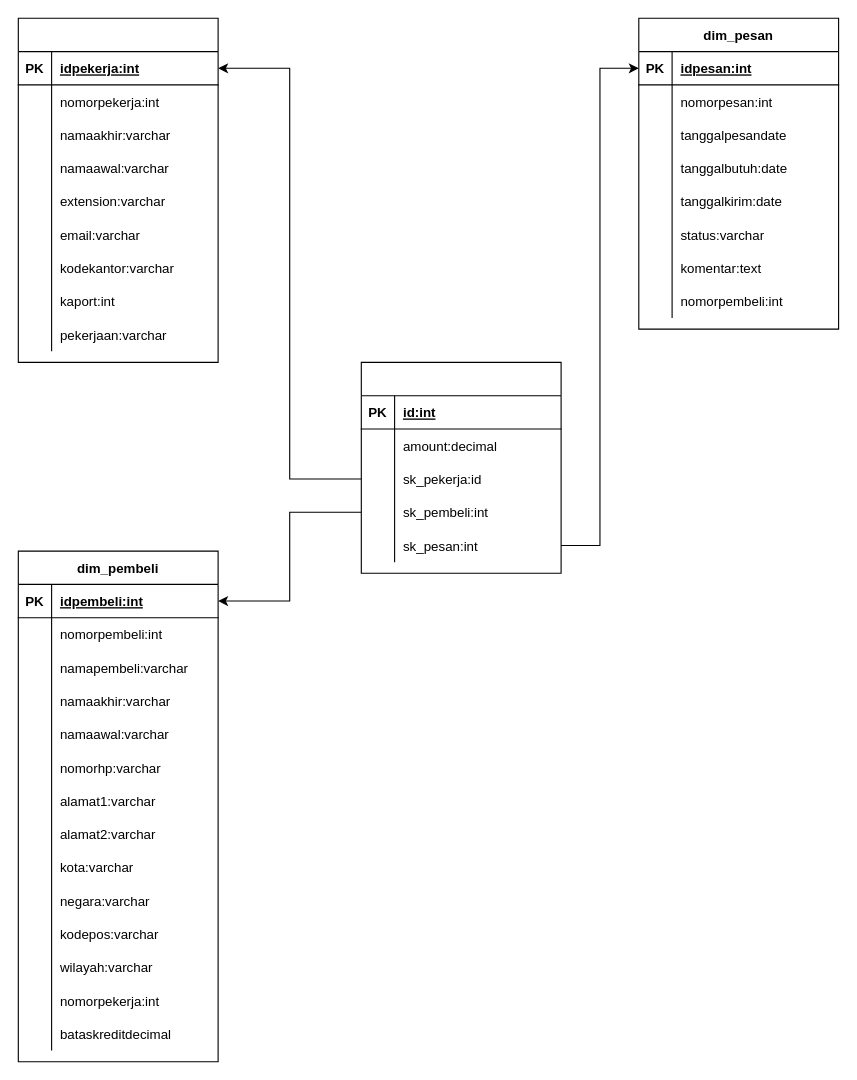
Some shapes in this 857 by 1080 pixel diagram are drawn without their labels. Here are the shapes that lost their labels. From the top down, the box of each, then its label:
(17, 17, 218, 362): dim_pekerja
(360, 361, 561, 573): Fakta
